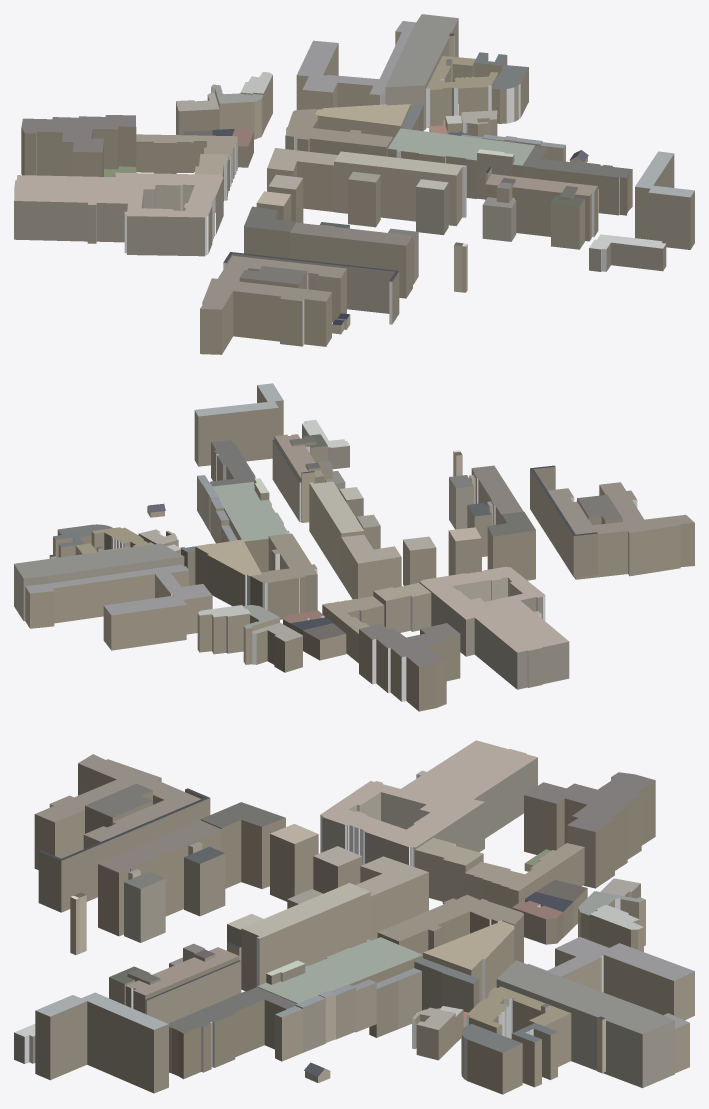
3 views of the same model, one above another, from view 1: azimuth 30°, elevation 25°; view 2: azimuth 150°, elevation 25°; view 3: azimuth 270°, elevation 25° (orthographic). The views are drawn at different scales.
Parts seen in each view (by area): view 1: tuile; view 2: tuile; view 3: tuile.
Boxes of the visible parts, x1,y1,x2,y2 form: tuile: (14,14,694,354); tuile: (14,383,694,711); tuile: (14,740,694,1094).
Size of the model in its own units: 318 by 37.6 by 295.
